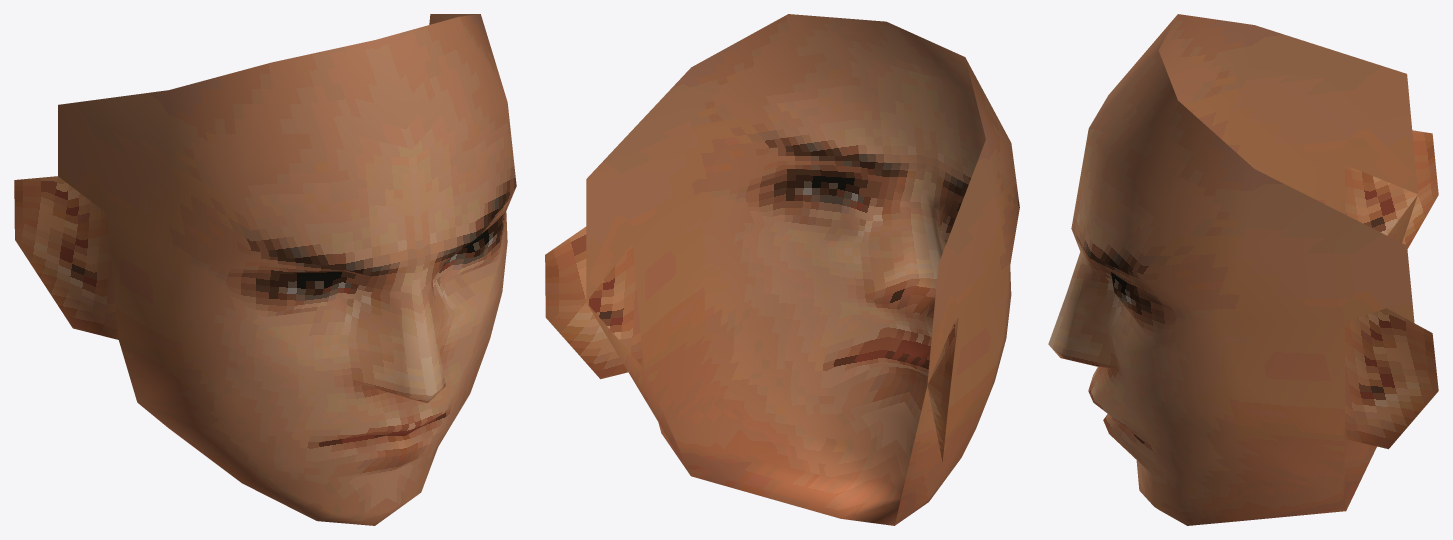
The picture shows the model from 3 angles, left to right: view 1: azimuth 30°, elevation 25°; view 2: azimuth 150°, elevation 25°; view 3: azimuth 270°, elevation 25°; orthographic projection. The views are drawn at different scales.
Size of the model in its own units: 17.18 by 18.73 by 14.2.
1 material, 1 textured.
